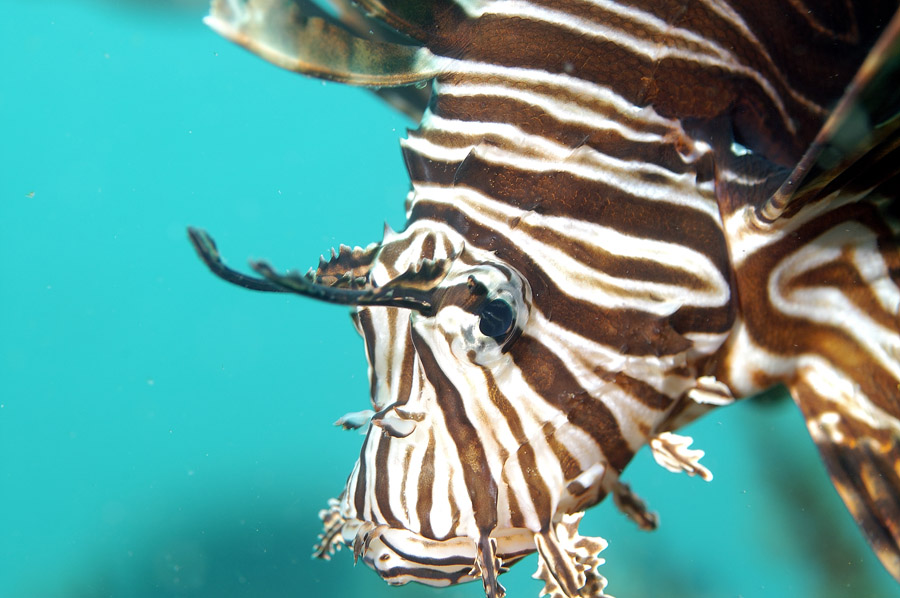Pterois_volitans: (166, 8, 900, 577)
